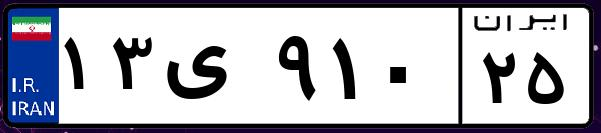0: (385, 28, 445, 110)
1: (330, 28, 385, 110), (57, 26, 110, 100)
2: (475, 38, 525, 113)
3: (110, 28, 158, 98)
5: (525, 38, 570, 115)
9: (270, 28, 330, 110)
ی: (158, 20, 270, 120)
